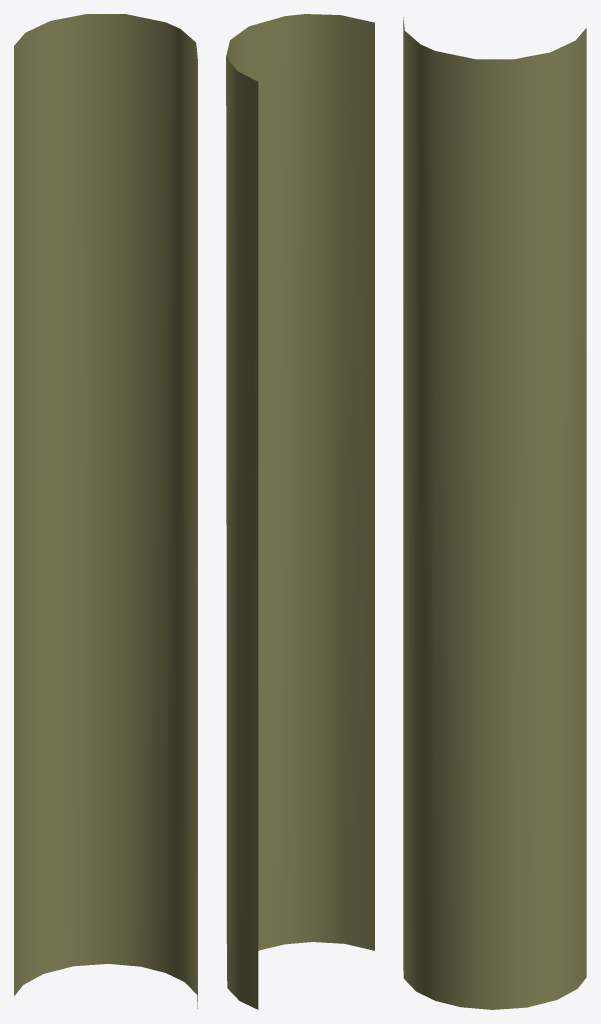
File: original-109.obj
3 renders of one model, left to right at view 1: azimuth 90°, elevation 25°; view 2: azimuth 150°, elevation 25°; view 3: azimuth 270°, elevation 25°, orthographic. The views are drawn at different scales.
Visible parts, largest first — view 1: Group88/mesh104/mesh104-geometry#mesh104-geometry; view 2: Group88/mesh104/mesh104-geometry#mesh104-geometry; view 3: Group88/mesh104/mesh104-geometry#mesh104-geometry.
Boxes of the visible parts, <box> form: Group88/mesh104/mesh104-geometry#mesh104-geometry: <box>14,14,197,1008</box>; Group88/mesh104/mesh104-geometry#mesh104-geometry: <box>226,14,374,1009</box>; Group88/mesh104/mesh104-geometry#mesh104-geometry: <box>403,17,586,1009</box>.
Size of the model in its own units: 0.0219 by 0.2107 by 0.0369.
